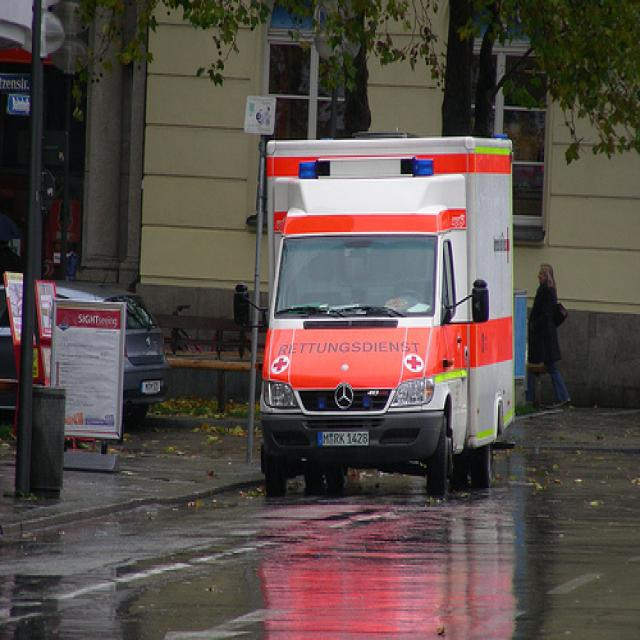emergency-vehicle: (266, 166, 451, 456)
